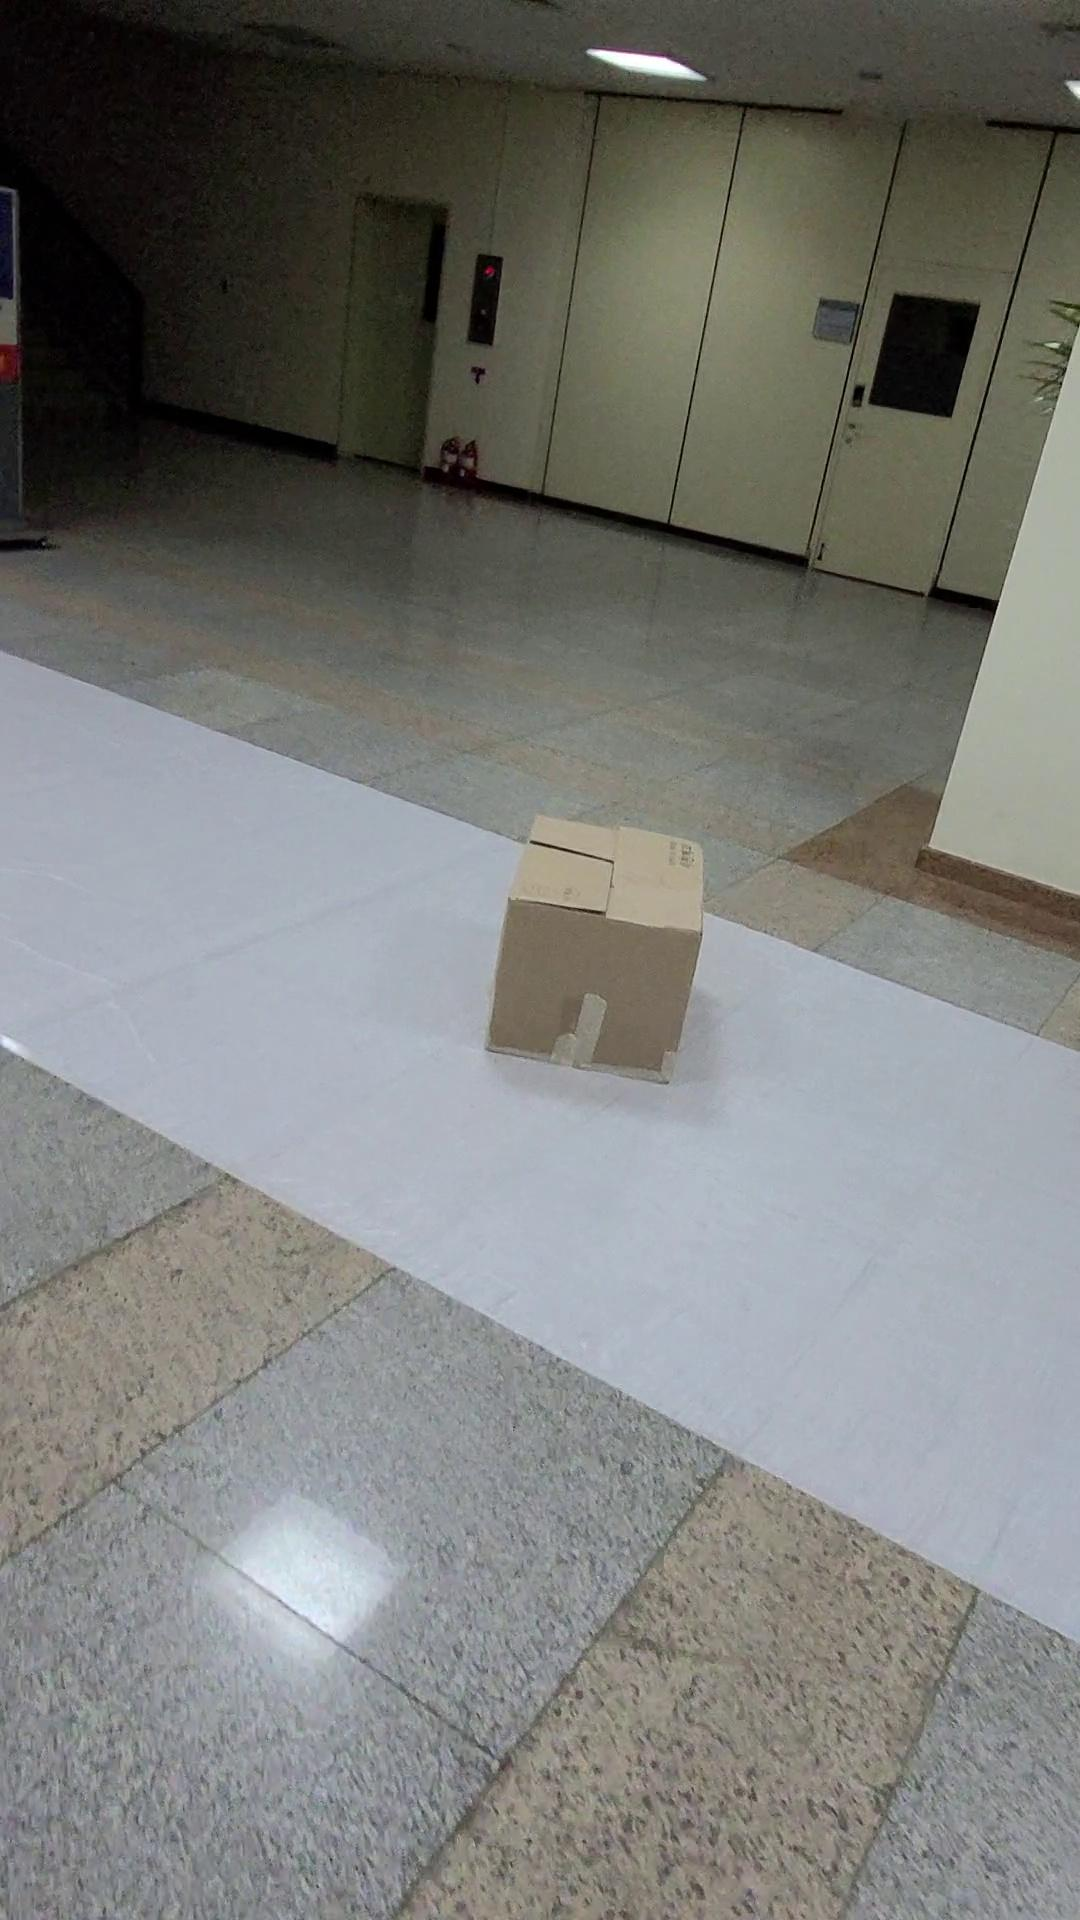Box: (477, 798, 704, 1095)
